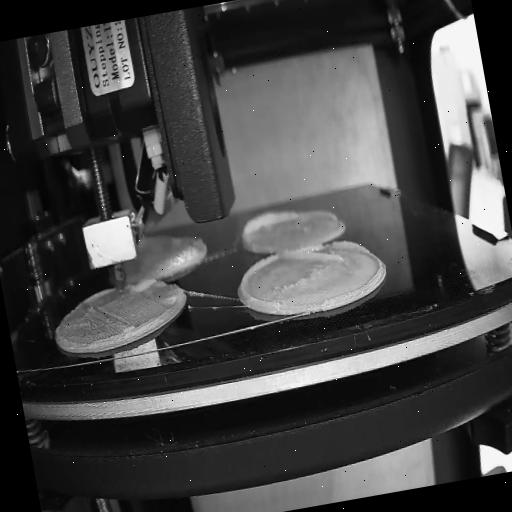over_extrusion: (284, 234, 372, 273), (234, 251, 290, 312), (237, 203, 302, 251), (130, 275, 160, 294)
